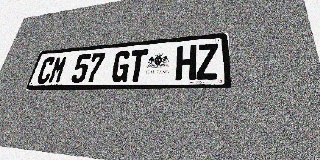5: (70, 54, 92, 83)
7: (84, 52, 106, 83)
C: (35, 57, 56, 84)
G: (110, 50, 132, 82)
H: (175, 45, 196, 81)
M: (47, 56, 69, 84)
T: (127, 49, 148, 82)
Z: (196, 43, 219, 80)
